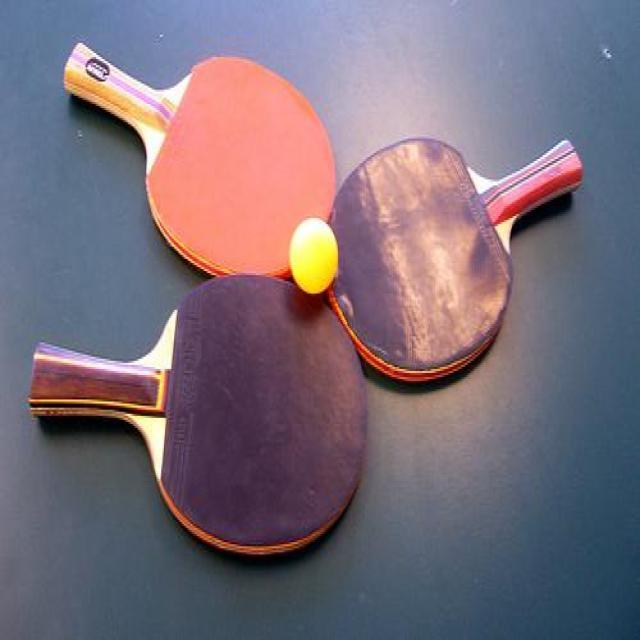ping-pong-ball: (288, 216, 340, 295)
